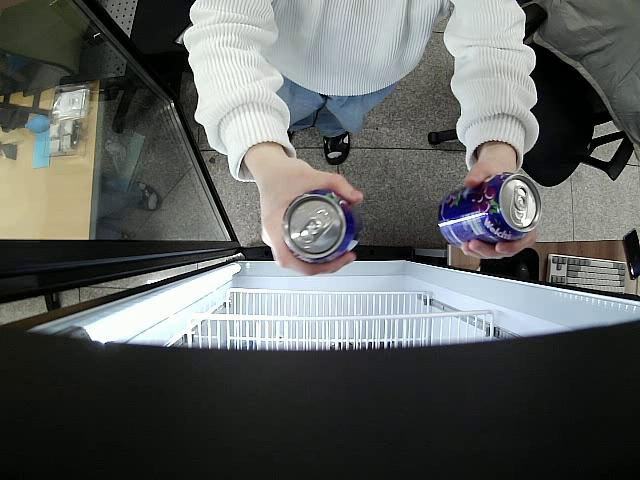00_hand: (260, 155, 365, 279), (460, 155, 537, 261)
14_welchsGrape: (437, 172, 544, 247), (283, 187, 362, 267)
